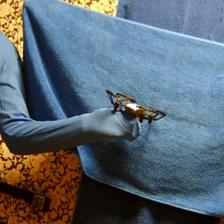drone: (106, 89, 167, 127)
